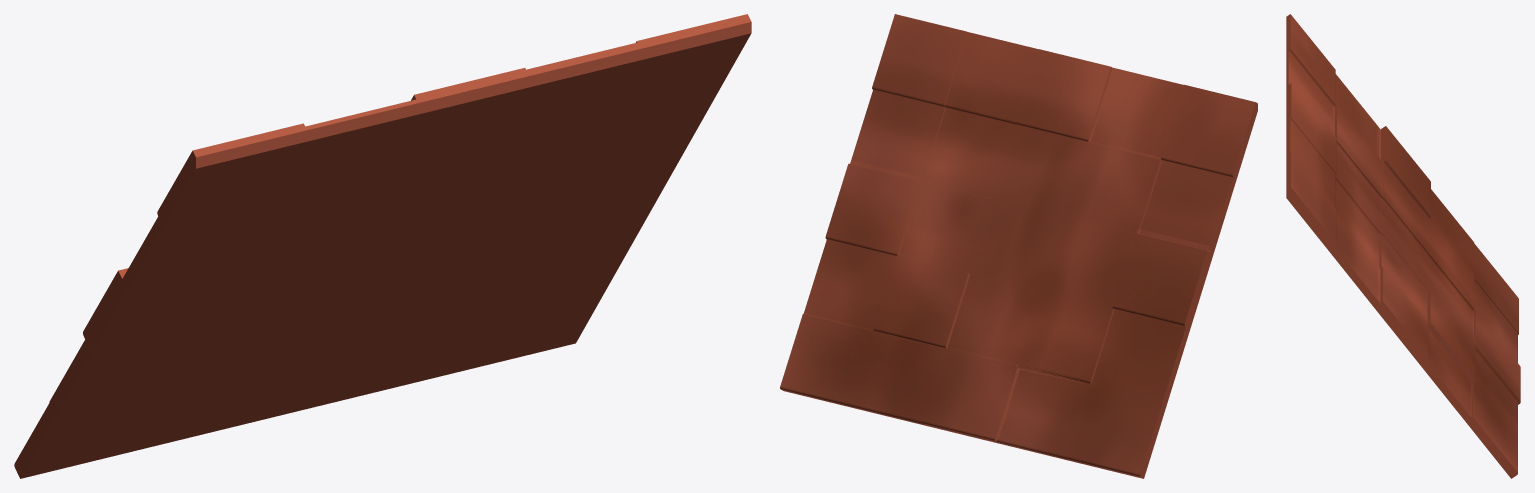
File: Roof 3.fbx
3 renders of one model, left to right at view 1: azimuth 30°, elevation 25°; view 2: azimuth 150°, elevation 25°; view 3: azimuth 270°, elevation 25°, orthographic. The views are drawn at different scales.
Visible parts, largest first — view 1: Roof 3; view 2: Roof 3; view 3: Roof 3.
Part boxes in pixels (x1=…): Roof 3: x1=14, y1=14, x2=751, y2=478; Roof 3: x1=780, y1=14, x2=1257, y2=478; Roof 3: x1=1286, y1=14, x2=1520, y2=478.
Size of the model in its own units: 359 by 281 by 205.
Materials: 1 (1 with a texture image).
